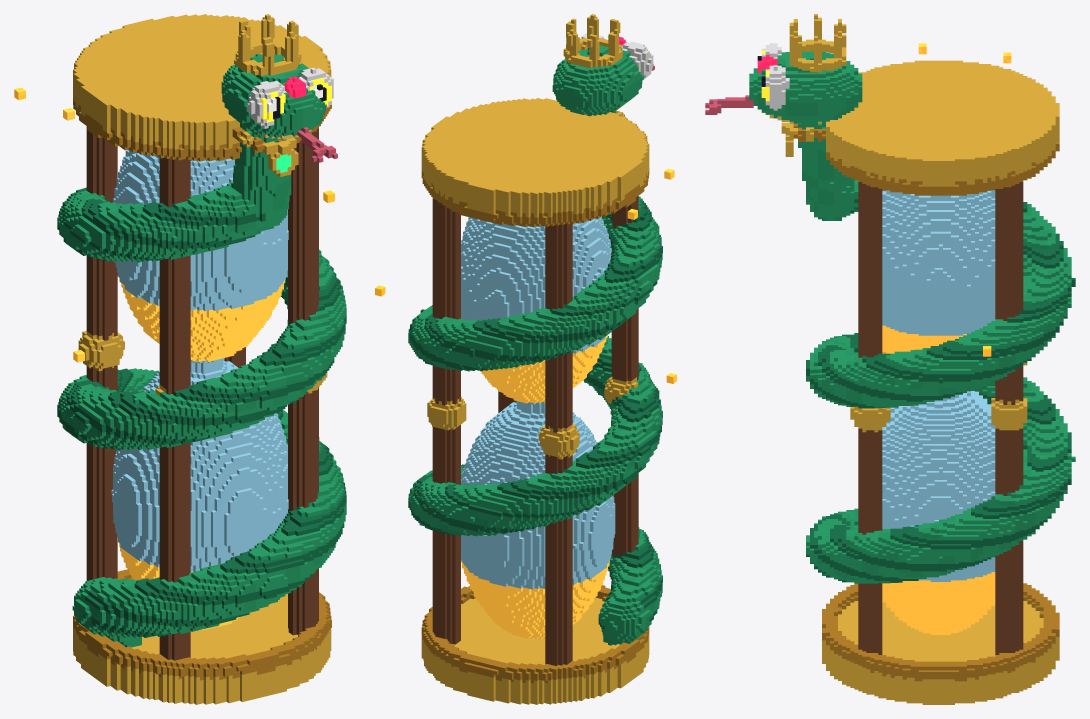
Rendered from clessidra_serpentona.glb.
The picture shows the model from 3 angles, left to right: view 1: azimuth 30°, elevation 25°; view 2: azimuth 150°, elevation 25°; view 3: azimuth 270°, elevation 25°; orthographic projection. The views are drawn at different scales.
Parts seen in each view (by area): view 1: SM_Brainrot_clessidra_serpentona; view 2: SM_Brainrot_clessidra_serpentona; view 3: SM_Brainrot_clessidra_serpentona.
Boxes of the visible parts, x1,y1,x2,y2 form: SM_Brainrot_clessidra_serpentona: [14, 14, 346, 704]; SM_Brainrot_clessidra_serpentona: [375, 14, 676, 704]; SM_Brainrot_clessidra_serpentona: [705, 14, 1075, 704].
Size of the model in its own units: 4.92 by 10.32 by 5.52.
1 material, 1 textured.
